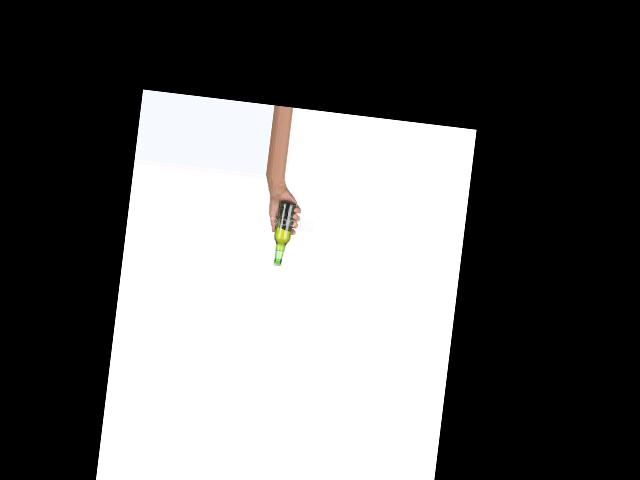beer: (270, 200, 295, 267)
